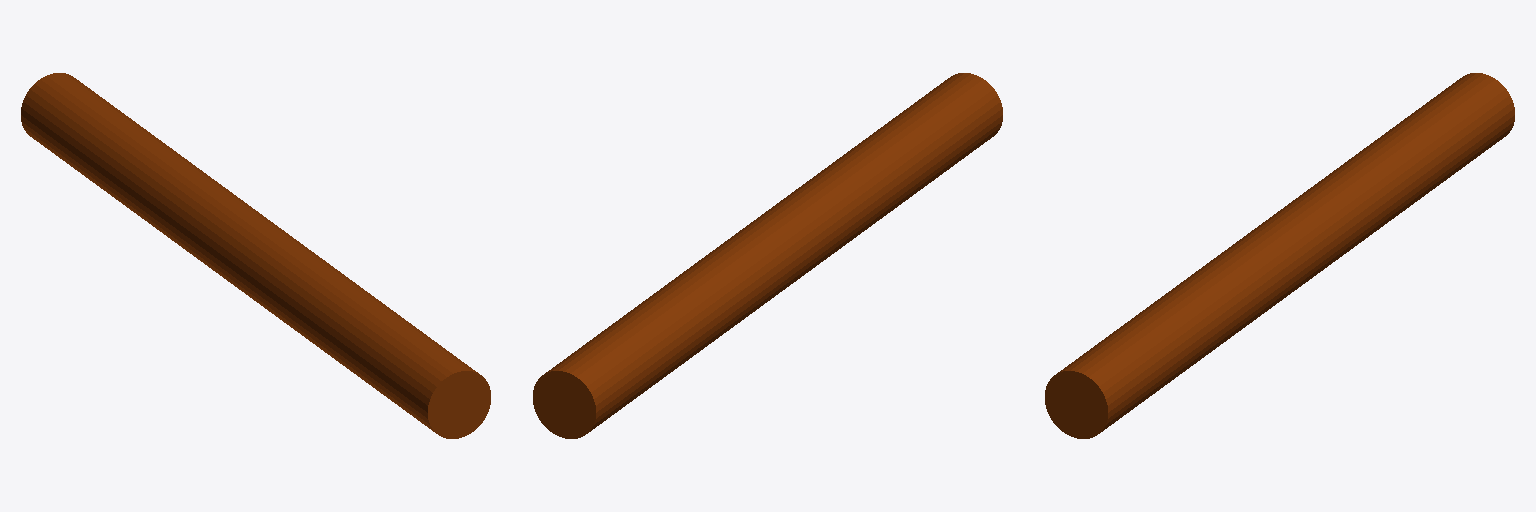
URDF robot description (cylinder):
<?xml version="1.0" ?>
<!-- =================================================================================== -->
<!-- |    This document was autogenerated by xacro from cylinder.xacro                 | -->
<!-- |    EDITING THIS FILE BY HAND IS NOT RECOMMENDED                                 | -->
<!-- =================================================================================== -->
<robot name="cylinder">
  <link name="world"/>
  <link name="base">
    <visual>
      <origin rpy="1.57079633 0 0" xyz="0 0 0"/>
      <geometry>
        <cylinder length="7.07106781185" radius="0.32"/>
      </geometry>
      <material name="cylinder_material">
        <color rgba="0.545 0.271 0.075 1.0"/>
        <texture filename="../textures/tree_bark.jpg"/>
      </material>
    </visual>
    <collision>
      <origin rpy="1.57079633 0 0" xyz="0 0 0"/>
      <geometry>
        <cylinder length="7.07106781185" radius="0.32"/>
      </geometry>
    </collision>
    <inertial>
      <origin rpy="0 0 0" xyz="0 0 0"/>
      <mass value="1"/>
      <inertia ixx="4.192266666648429" ixy="0.0" ixz="0.0" iyy="4.192266666648429" iyz="0.0" izz="24.999999999890573"/>
    </inertial>
  </link>
  <joint name="base_joint" type="fixed">
    <parent link="world"/>
    <child link="base"/>
    <origin rpy="0 0 0" xyz="0.0 0.0 0.0"/>
  </joint>
</robot>

--- What the picture shows (computed from the rendered views, not written in the file) ---
3 views of the same robot in one strip: view 1: azimuth 30°, elevation 25°; view 2: azimuth 150°, elevation 25°; view 3: azimuth 330°, elevation 25° (orthographic).
Robot: cylinder — 2 links, 1 joints (1 fixed); root link world; default pose: every joint at zero.
Links seen in each view (by area): view 1: base; view 2: base; view 3: base.
Link boxes in pixels (bbox=[...]): base: bbox=[21, 73, 490, 438]; base: bbox=[533, 73, 1002, 438]; base: bbox=[1045, 73, 1514, 438].
Bounding box of the posed robot: 0.64 × 7.07 × 0.64 m (x, y, z).
Geometry: primitives only (box / cylinder / sphere), no mesh files.
